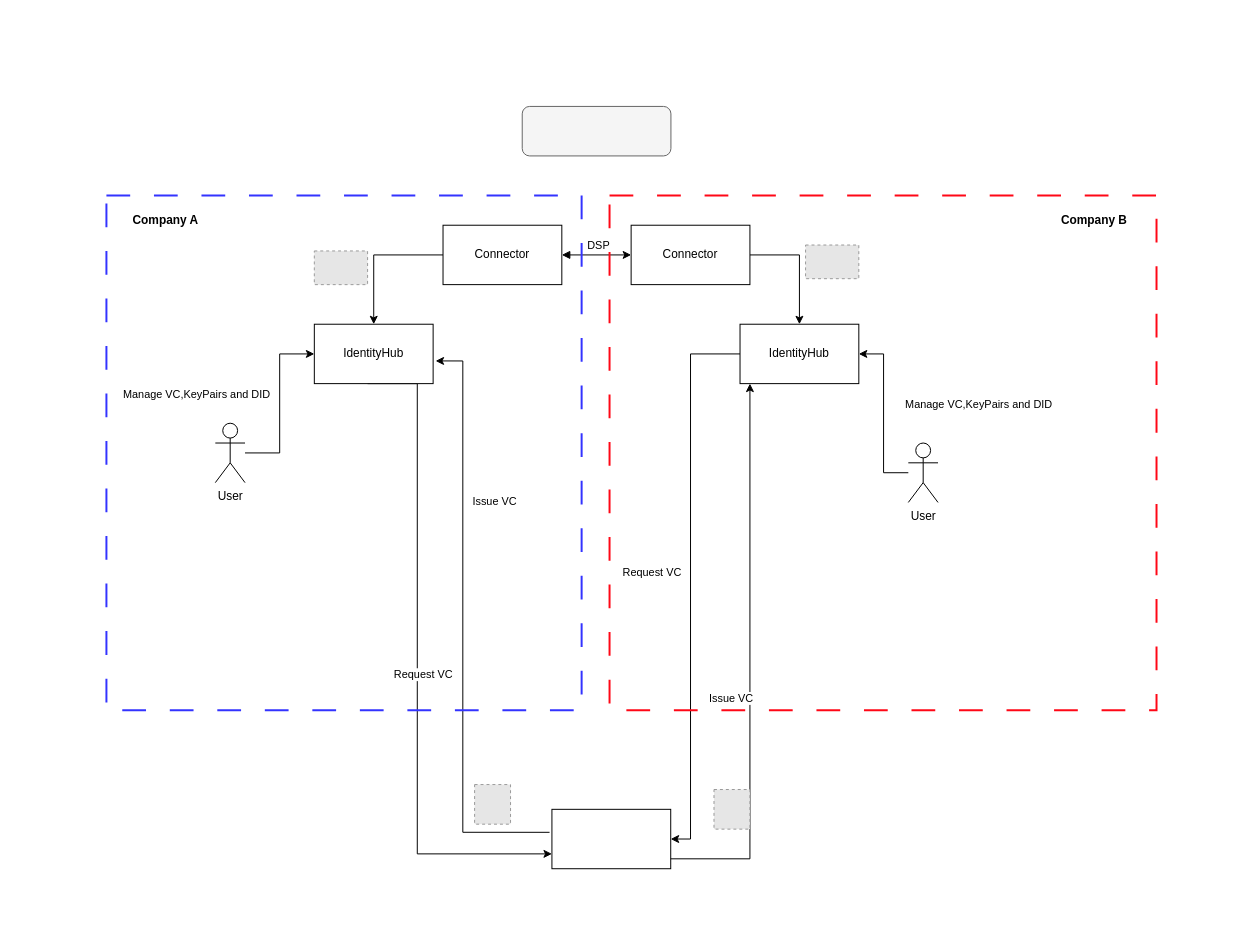
Some shapes in this 1251 by 944 pixel diagram are drawn without their labels. Grey dashed boxes stand in for pictures. The centre of each missing label's shape, as x and y in pixels:
"Identity Hub Basic Diagram" belongs at point 596,130.
"Issuer" belongs at point 611,838.
